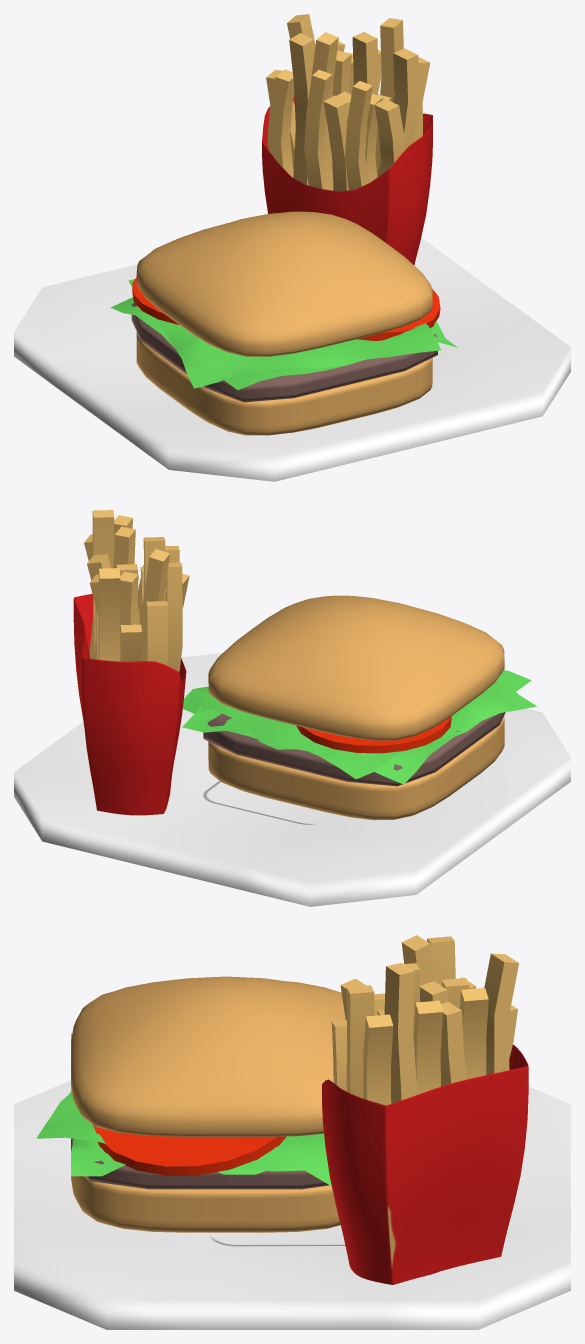
The model's file is hamburgerFries_plate.fbx.
3 views of the same model, one above another, from view 1: azimuth 30°, elevation 25°; view 2: azimuth 150°, elevation 25°; view 3: azimuth 270°, elevation 25° (orthographic). The views are drawn at different scales.
Visible parts, largest first — view 1: Hamburger:pCube4, pCube4, pCube29; view 2: Hamburger:pCube4, pCube4, pCube29; view 3: Hamburger:pCube4, pCube4, pCube29.
Part boxes in pixels (x1,y1,x2,y2): Hamburger:pCube4: [110, 211, 457, 435]; pCube4: [14, 238, 570, 481]; pCube29: [262, 14, 432, 264]; Hamburger:pCube4: [182, 595, 536, 820]; pCube4: [14, 653, 570, 906]; pCube29: [73, 510, 189, 815]; Hamburger:pCube4: [36, 976, 345, 1232]; pCube4: [14, 1080, 570, 1329]; pCube29: [322, 935, 528, 1284].
Size of the model in its own units: 40.64 by 27.39 by 40.64.
